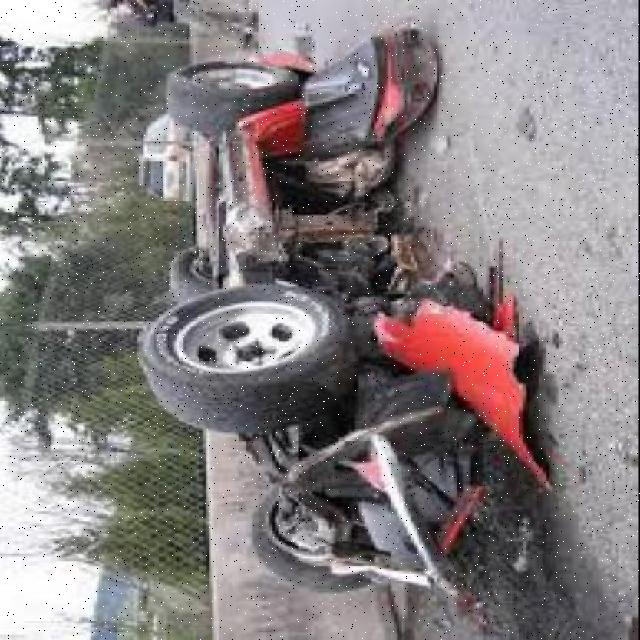damage: (201, 29, 556, 579)
